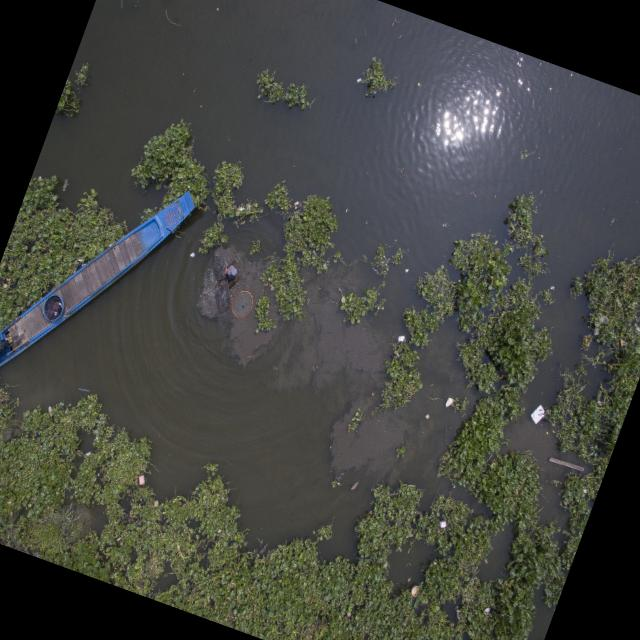Plastic: (526, 398, 550, 428), (444, 393, 456, 408), (398, 332, 408, 344)
